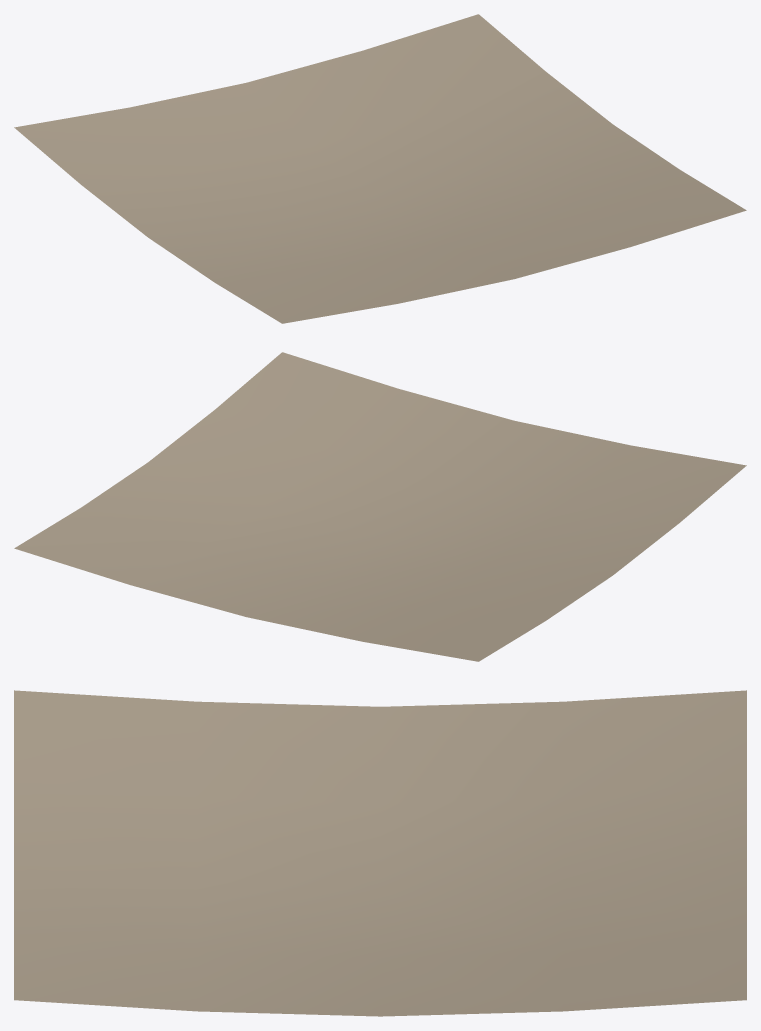
Rendered from SM_Net_Cieling_2x2M.fbx.
3 renders of one model, top to bottom at view 1: azimuth 30°, elevation 25°; view 2: azimuth 150°, elevation 25°; view 3: azimuth 270°, elevation 25°, orthographic. The views are drawn at different scales.
Visible parts, largest first — view 1: Net_Cieling_2x2; view 2: Net_Cieling_2x2; view 3: Net_Cieling_2x2.
Boxes of the visible parts, box(x1,y1,x2,y2) form: Net_Cieling_2x2: box(14, 14, 746, 323); Net_Cieling_2x2: box(14, 352, 746, 661); Net_Cieling_2x2: box(14, 690, 746, 1016).
Bounding box in the file's own units: 200 × 13.49 × 200.
